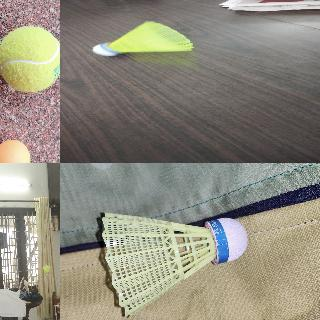shuttlecock: (102, 212, 248, 316), (92, 21, 193, 55), (42, 266, 49, 274)
